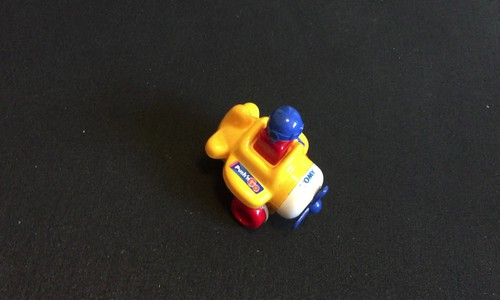toy: (197, 93, 335, 238)
